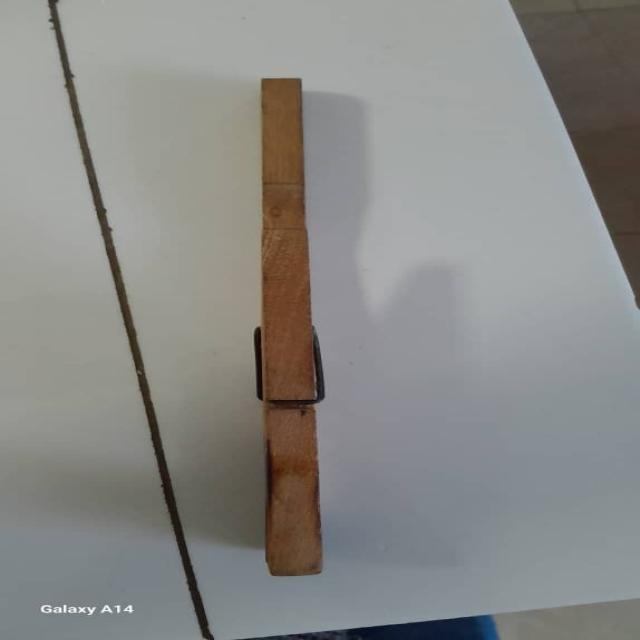Test Tube Holder: (252, 74, 339, 578)
